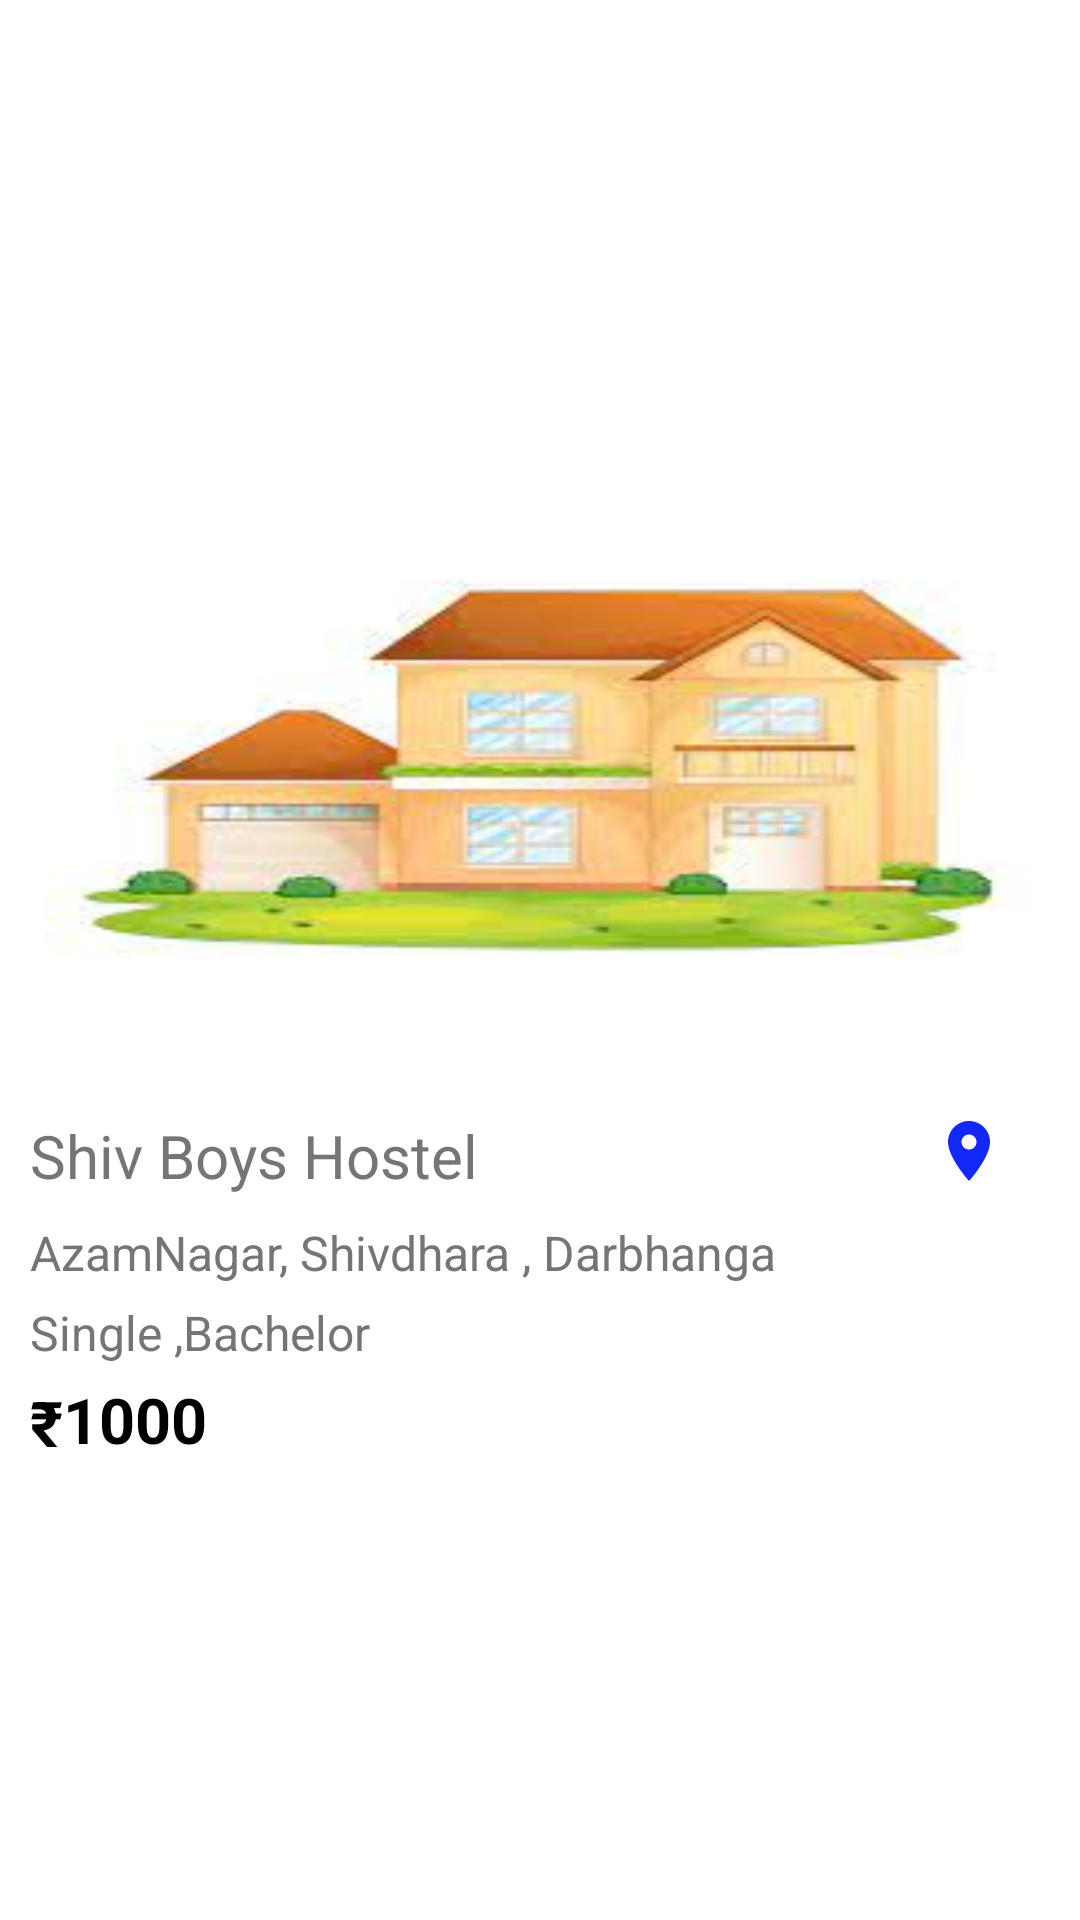

Screen size 1080px x 1920px. Icon name, then its center in pixels as [x,y]:
location: [969,1151]
